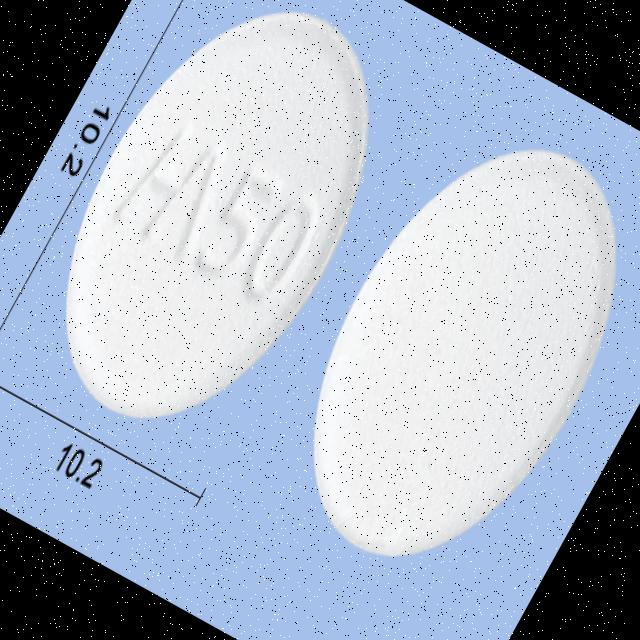Herfam: (2, 0, 434, 470), (247, 97, 640, 610)
